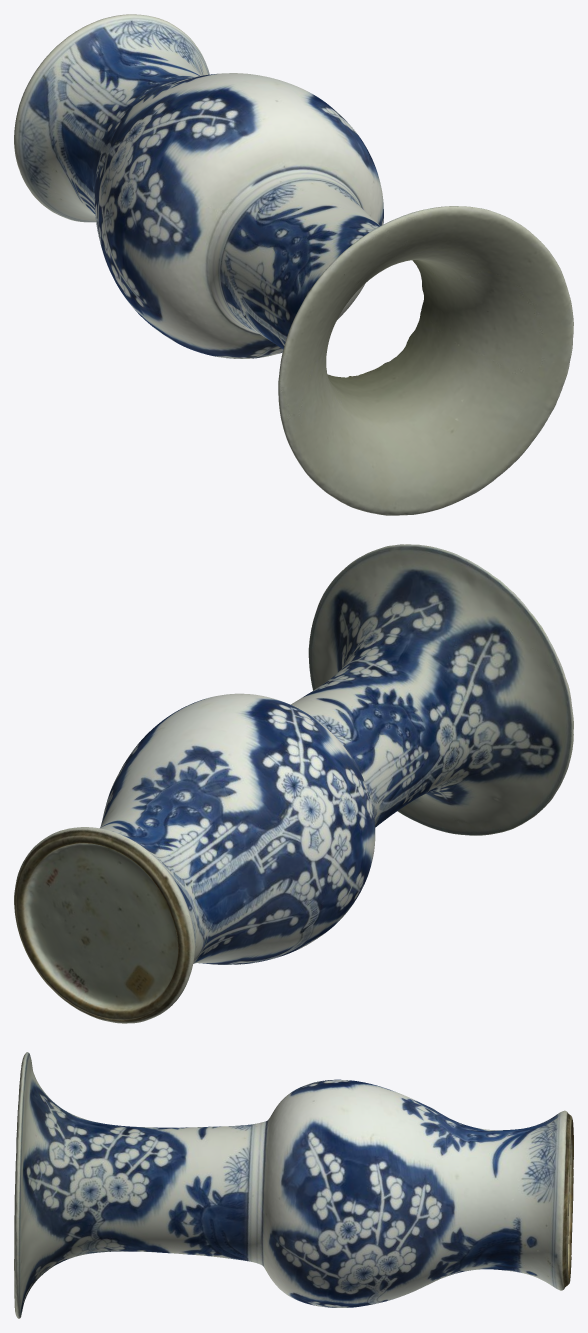
File: vase-200k-1024-low.glb
The picture shows the model from 3 angles, top to bottom: view 1: azimuth 30°, elevation 25°; view 2: azimuth 150°, elevation 25°; view 3: azimuth 270°, elevation 25°; orthographic projection. The views are drawn at different scales.
Bounding box in the file's own units: 0.2218 × 0.2215 × 0.4641.
1 material, 1 textured.
